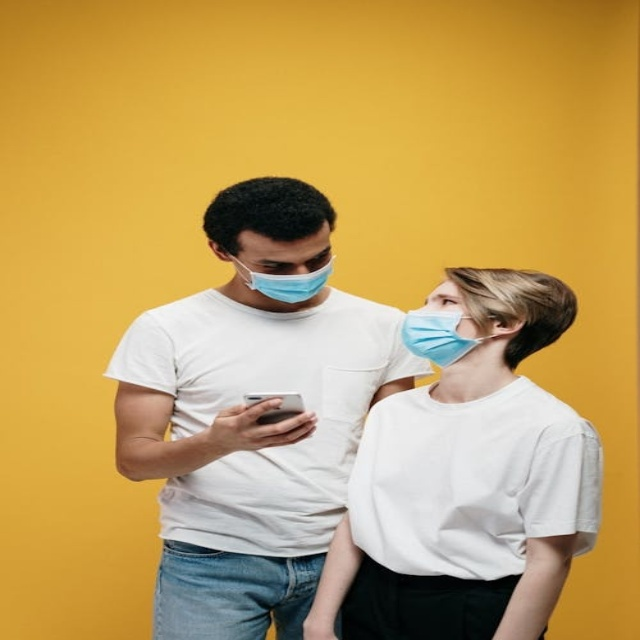Mascara: (226, 248, 332, 303), (401, 307, 498, 367)
Sin_gafas: (239, 245, 329, 270), (422, 290, 463, 307)
Sin_guantes: (207, 396, 319, 453)
